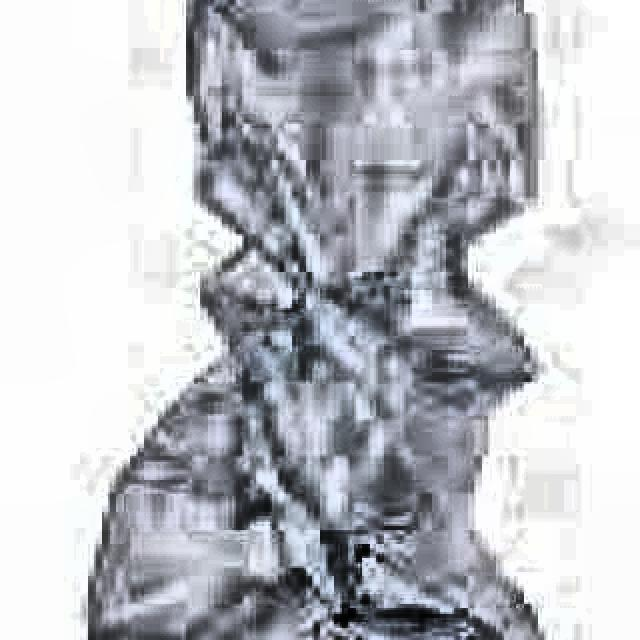plastic: (36, 0, 618, 640)
